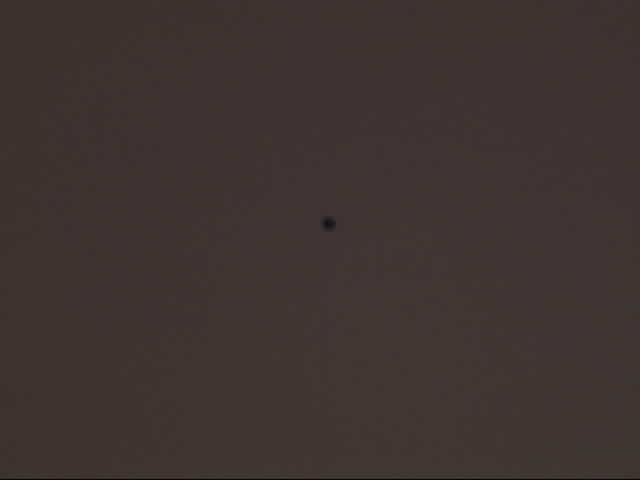PIQ PARTICLE: (316, 211, 344, 239)
